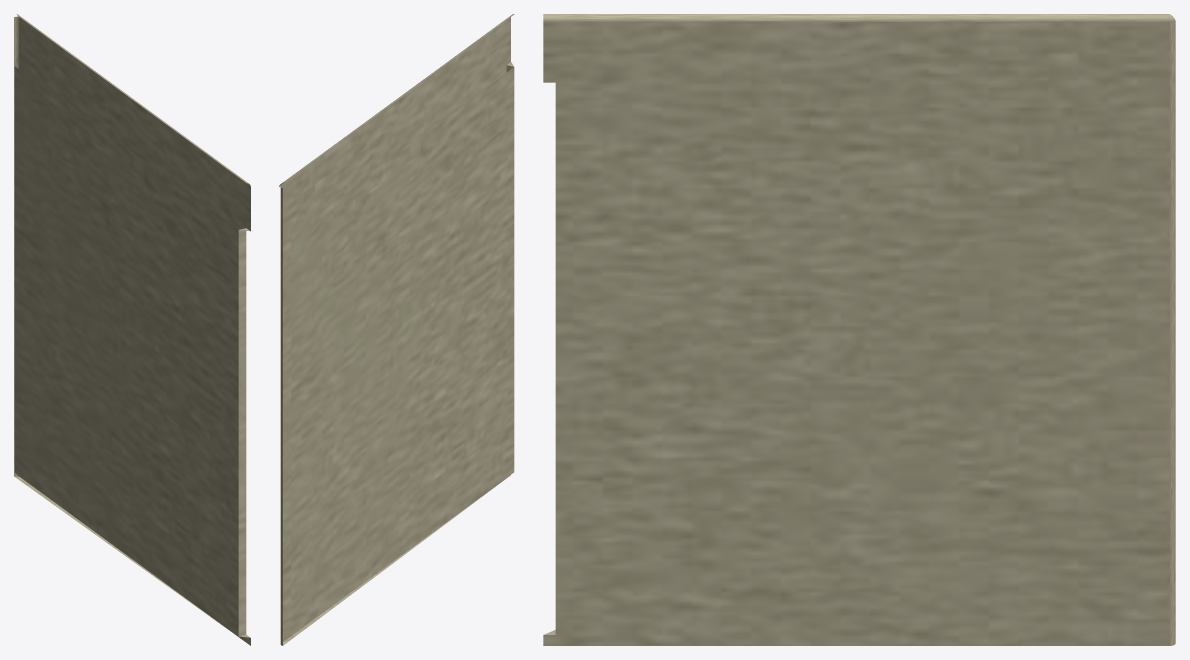
The picture shows the model from 3 angles, left to right: view 1: azimuth 30°, elevation 25°; view 2: azimuth 150°, elevation 25°; view 3: azimuth 270°, elevation 25°; orthographic projection. The views are drawn at different scales.
Size of the model in its own units: 0.0107 by 0.6104 by 0.5558.
